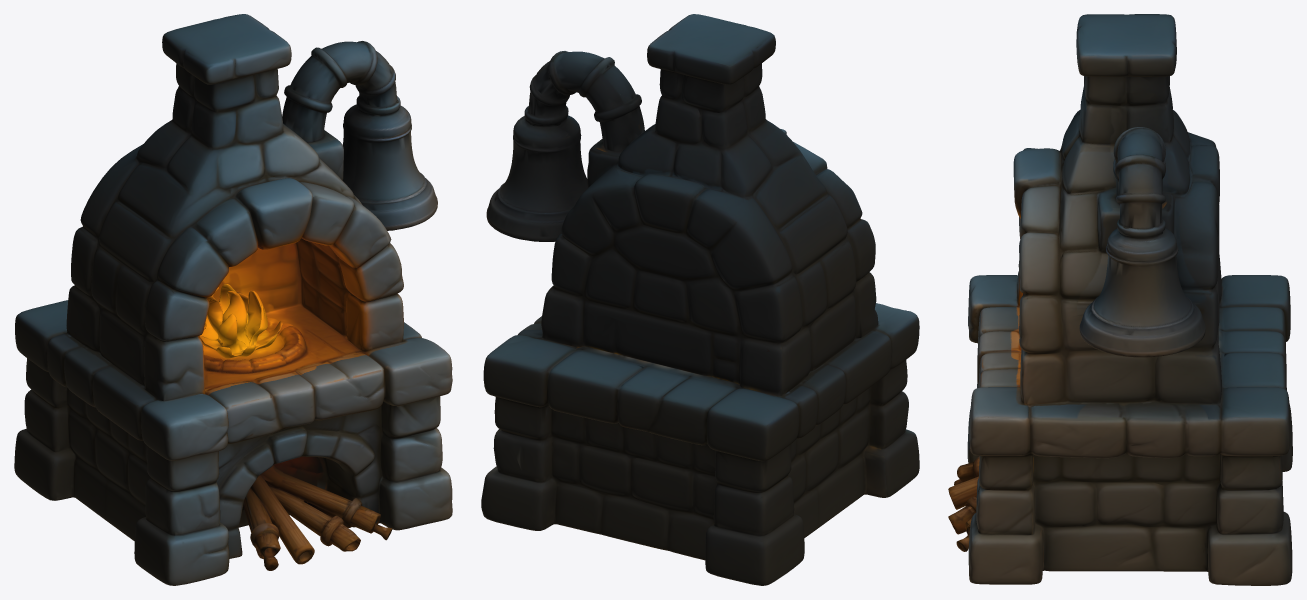
Rendered from forge.glb.
3 views of the same model, side by side, from view 1: azimuth 30°, elevation 25°; view 2: azimuth 150°, elevation 25°; view 3: azimuth 270°, elevation 25° (orthographic). The views are drawn at different scales.
Visible parts, largest first — view 1: node_0; view 2: node_0; view 3: node_0.
Boxes of the visible parts, x1,y1,x2,y2 form: node_0: (14,14,452,585); node_0: (481,14,919,585); node_0: (948,14,1292,585).
Size of the model in its own units: 0.6713 by 0.8619 by 0.561.
Materials: 1 (1 with a texture image).
